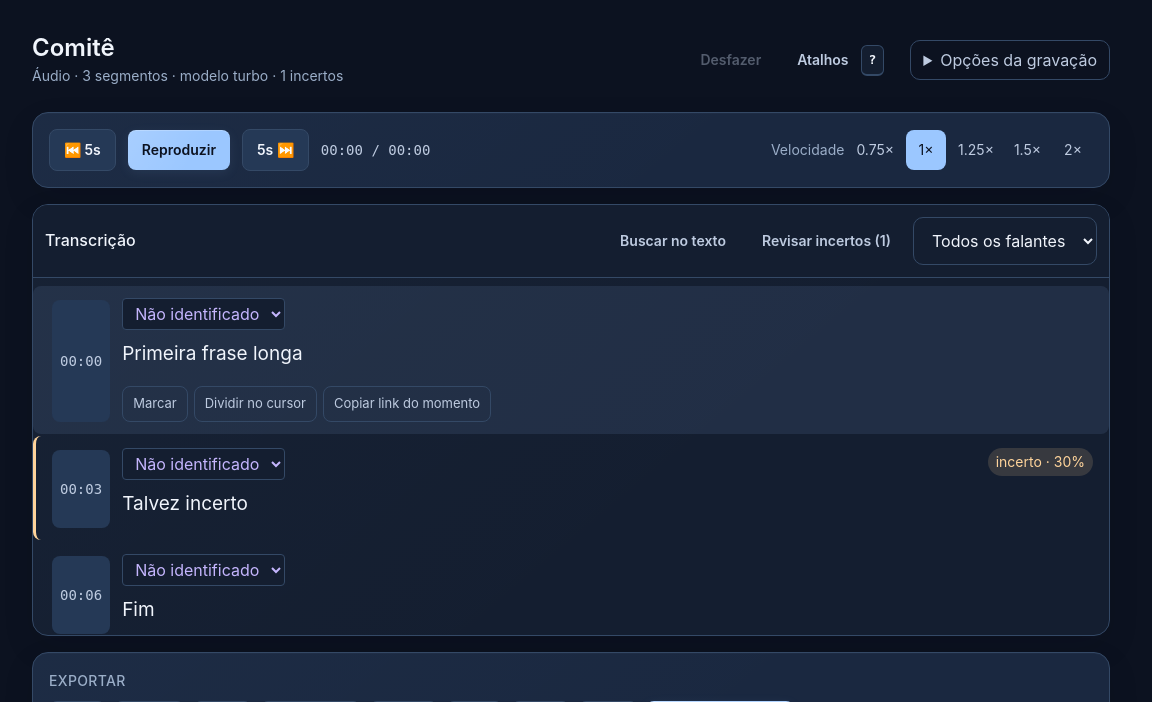
copies a link to a moment
The image size is (1152, 702).
Click the button named "Ir para 00:03". click: x=81, y=489
box: [52, 450, 110, 528]
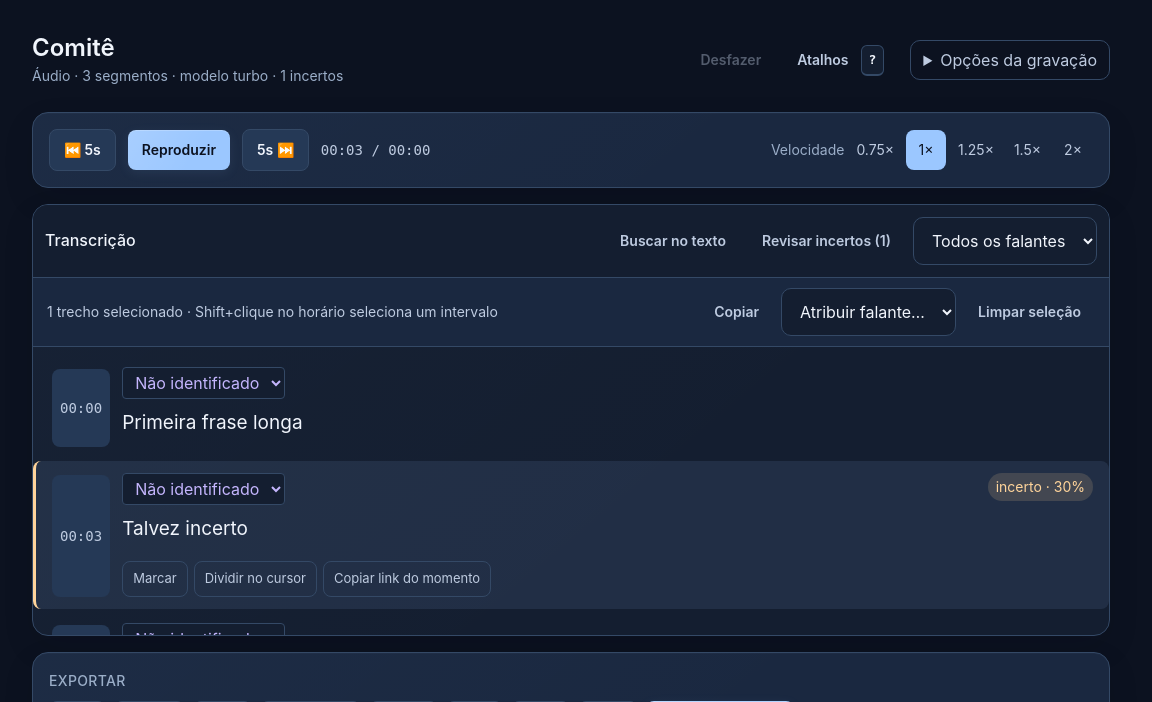
Click the button "Copiar link do momento". click: x=407, y=579
box: [323, 561, 491, 597]
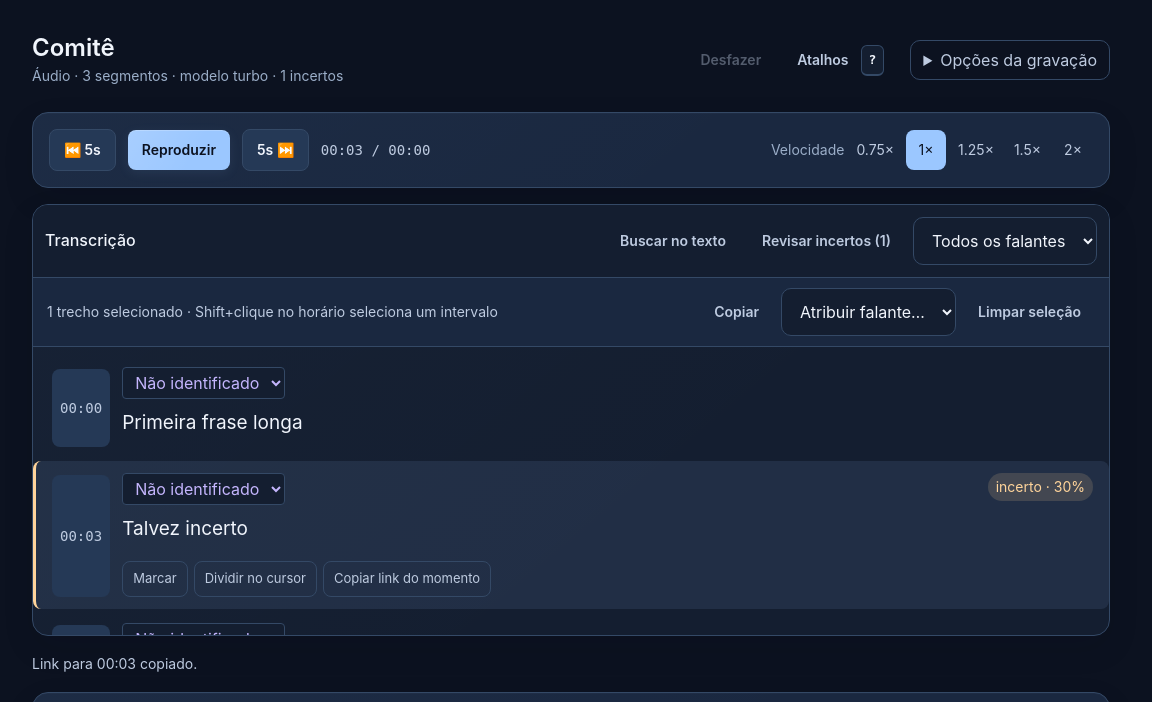
Expected: the text "Link para 00:03 copiado." is shown, [32, 655, 197, 672]
